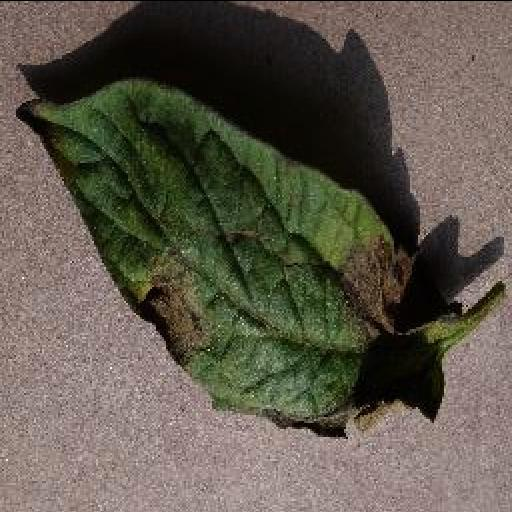disease_tomato: (14, 77, 460, 435)
